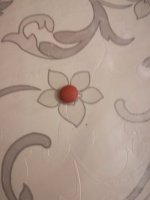Dolorex: (58, 84, 79, 104)
